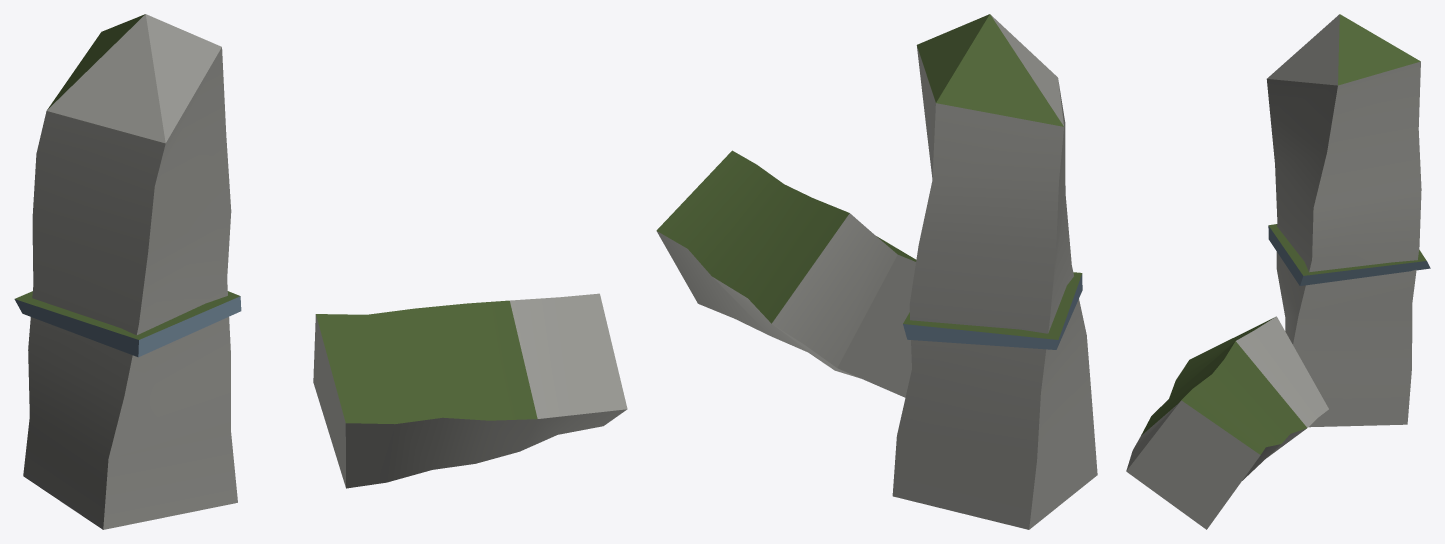
The model's file is MakerPillarBroken.fbx.
3 views of the same model, side by side, from view 1: azimuth 30°, elevation 25°; view 2: azimuth 150°, elevation 25°; view 3: azimuth 270°, elevation 25° (orthographic). The views are drawn at different scales.
Parts seen in each view (by area): view 1: MakerPillarBroken; view 2: MakerPillarBroken; view 3: MakerPillarBroken.
Part boxes in pixels (x1,y1,x2,y2): MakerPillarBroken: (14, 14, 627, 529); MakerPillarBroken: (656, 14, 1097, 529); MakerPillarBroken: (1126, 14, 1430, 529).
Bounding box in the file's own units: 1.8 × 1.69 × 1.19.
